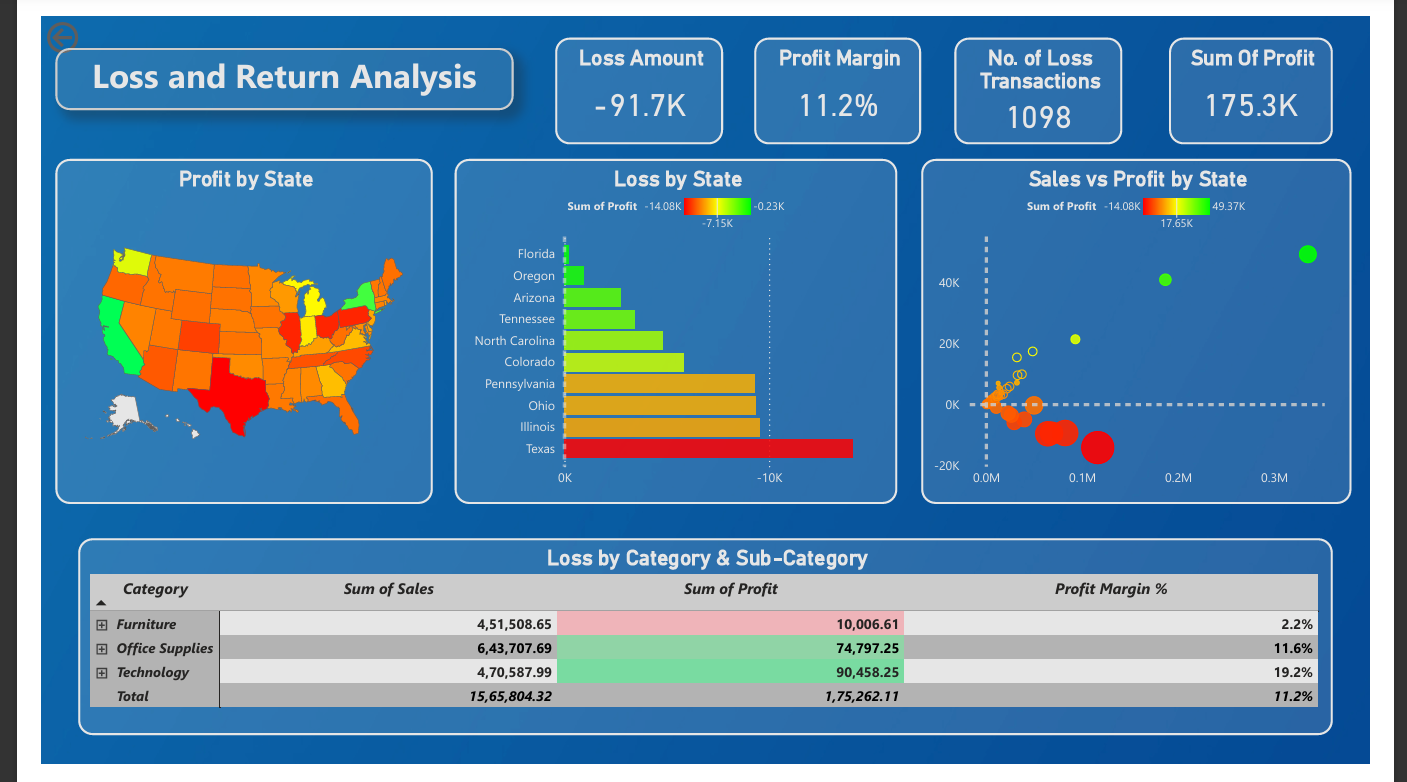

Layout of this report page (visuals, bound fields, positions):
{"tool":"powerbi","page":{"name":"Loss & Returns Analysis","canvas":[1280,720],"ordinal":1},"visuals":[{"type":"actionButton","box":[0,0,100,40],"z":0},{"type":"card","title":"Sum Of Profit","fields":{"Values":["Sum(SuperStore_Sales_Dataset.Profit)"]},"box":[1086.7,20,158.3,103.3],"z":1000},{"type":"card","title":"Profit Margin","fields":{"Values":["SalesForecast.Profit Margin %"]},"box":[686.7,20,161.7,103.3],"z":2000},{"type":"card","title":"Loss Amount","fields":{"Values":["SalesForecast.Loss Amount"]},"box":[495,20,161.7,103.3],"z":3000},{"type":"card","title":"No. of Loss Transactions","fields":{"Values":["SalesForecast.No. of Loss Transactions"]},"box":[880,20,161.7,103.3],"z":4000},{"type":"shapeMap","title":"Profit by State","fields":{"Category":["SuperStore_Sales_Dataset.State"],"Value":["Sum(SuperStore_Sales_Dataset.Profit)"]},"box":[13.3,136.7,363.3,333.3],"z":5000},{"type":"clusteredBarChart","title":"Loss by State","fields":{"Category":["SuperStore_Sales_Dataset.State"],"Y":["Sum(SuperStore_Sales_Dataset.Profit)"]},"box":[398.3,136.7,426.7,333.3],"z":6000},{"type":"pivotTable","title":"Loss by Category & Sub-Category","fields":{"Rows":["SuperStore_Sales_Dataset.Category","SuperStore_Sales_Dataset.Sub-Category"],"Values":["Sum(SuperStore_Sales_Dataset.Sales)","Sum(SuperStore_Sales_Dataset.Profit)","SalesForecast.Profit Margin %"]},"box":[35,503.3,1210,190],"z":7000},{"type":"scatterChart","title":"Sales vs Profit by State","fields":{"X":["Sum(SuperStore_Sales_Dataset.Sales)"],"Y":["Sum(SuperStore_Sales_Dataset.Profit)"],"Category":["SuperStore_Sales_Dataset.State"],"Size":["SalesForecast.No. of Loss Transactions"]},"box":[848.3,136.7,415,333.3],"z":8000},{"type":"textbox","box":[13.3,30,441.7,60],"z":9000}]}

Visuals, with their boxes in screenshot pixels (x1, y1, x2, y2), scaled from the page's 1280x720 canvas onto the 1407x782 screenshot:
actionButton: [0,0,110,43]
"Sum Of Profit" card: [1195,22,1369,134]
"Profit Margin" card: [755,22,933,134]
"Loss Amount" card: [544,22,722,134]
"No. of Loss Transactions" card: [967,22,1145,134]
"Profit by State" shapeMap: [15,148,414,510]
"Loss by State" clusteredBarChart: [438,148,907,510]
"Loss by Category & Sub-Category" pivotTable: [38,547,1369,753]
"Sales vs Profit by State" scatterChart: [932,148,1389,510]
textbox: [15,33,500,98]
